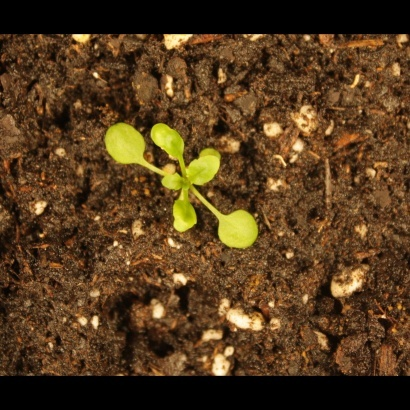leaf: (101, 123, 149, 168), (215, 209, 263, 250), (150, 117, 187, 162), (187, 151, 222, 185), (170, 197, 200, 235), (160, 171, 183, 194)
